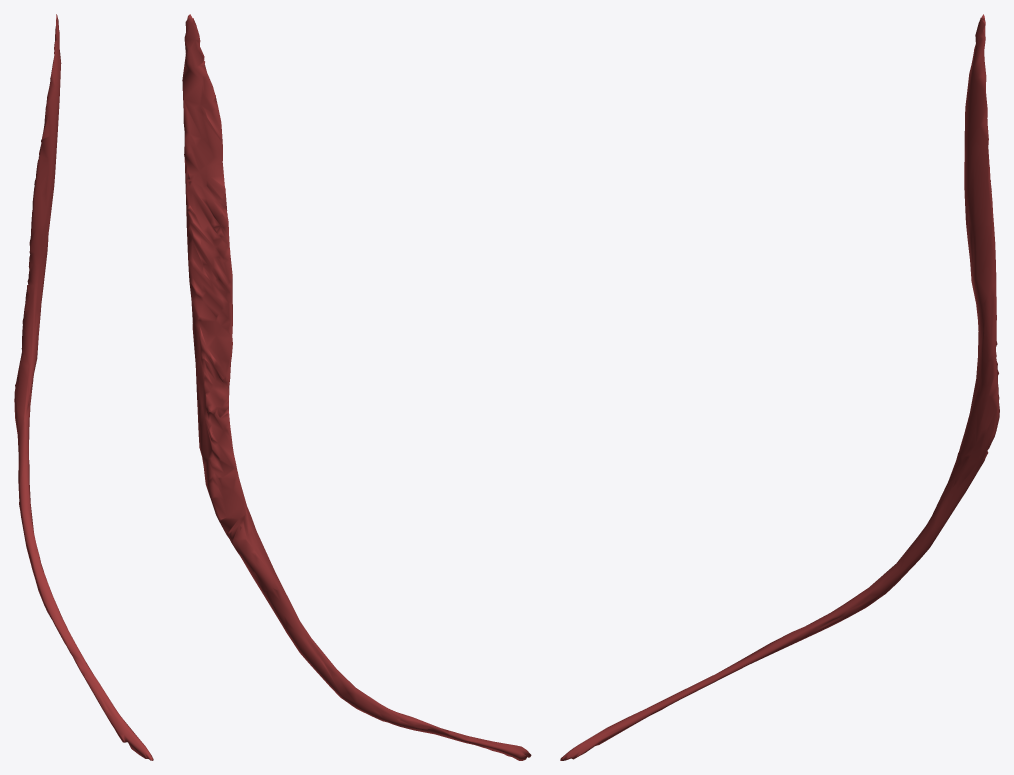
The model's file is extensor-hallucis-longus-l.glb.
3 views of the same model, side by side, from view 1: azimuth 30°, elevation 25°; view 2: azimuth 150°, elevation 25°; view 3: azimuth 270°, elevation 25° (orthographic). The views are drawn at different scales.
Parts seen in each view (by area): view 1: Extensor hallucis longus.l; view 2: Extensor hallucis longus.l; view 3: Extensor hallucis longus.l.
Part boxes in pixels (x1,y1,x2,y2): Extensor hallucis longus.l: (14,14,153,760); Extensor hallucis longus.l: (182,14,531,760); Extensor hallucis longus.l: (560,14,999,760).
Size of the model in its own units: 0.0427 by 0.2805 by 0.1417.
